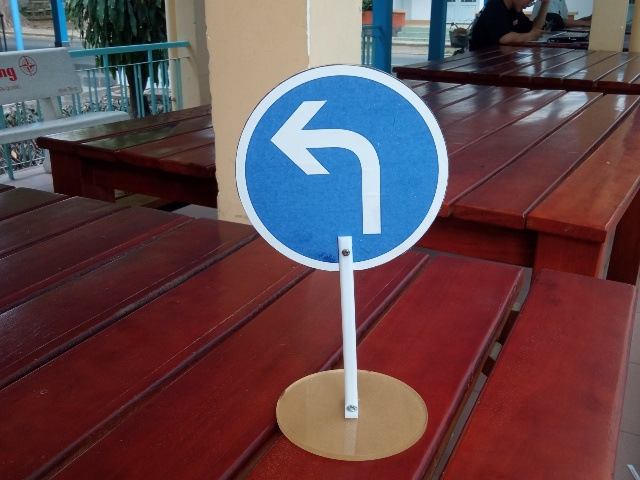Left_Sign: (234, 63, 450, 271)
